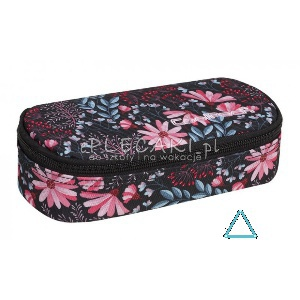triangle: (221, 208, 259, 239)
